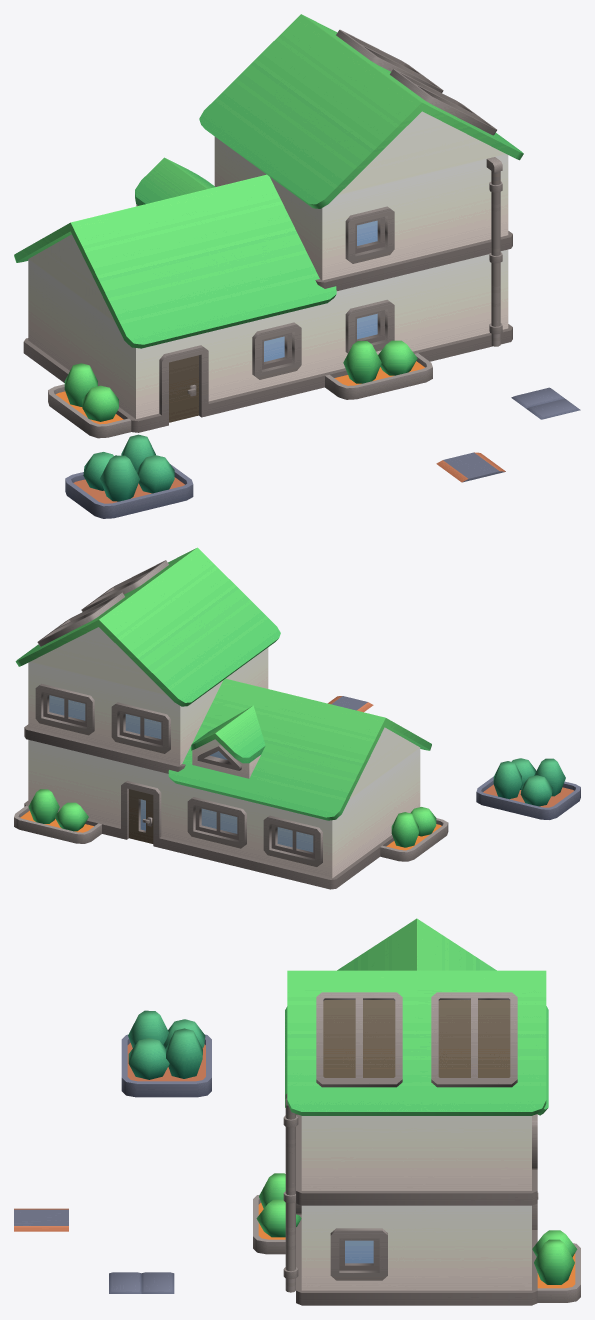
Rendered from wf02-residential-cottage-shell.glb.
3 renders of one model, top to bottom at view 1: azimuth 30°, elevation 25°; view 2: azimuth 150°, elevation 25°; view 3: azimuth 270°, elevation 25°, orthographic. The views are drawn at different scales.
Parts seen in each view (by area): view 1: building-type-b, planter, path-stones-short, path-short; view 2: building-type-b, planter; view 3: building-type-b, planter, path-stones-short, path-short.
Boxes of the visible parts, x1=… form: building-type-b: x1=14, y1=14, x2=523, y2=438; planter: x1=65, y1=434, x2=193, y2=518; path-stones-short: x1=511, y1=387, x2=580, y2=419; path-short: x1=436, y1=452, x2=505, y2=482; building-type-b: x1=14, y1=547, x2=448, y2=889; planter: x1=476, y1=758, x2=580, y2=819; building-type-b: x1=253, y1=918, x2=580, y2=1305; planter: x1=121, y1=1010, x2=211, y2=1097; path-stones-short: x1=109, y1=1272, x2=174, y2=1293; path-short: x1=14, y1=1208, x2=68, y2=1231.
Bounding box in the file's own units: 2.49 × 1.25 × 2.27.
Materials: 4 (4 with a texture image).
